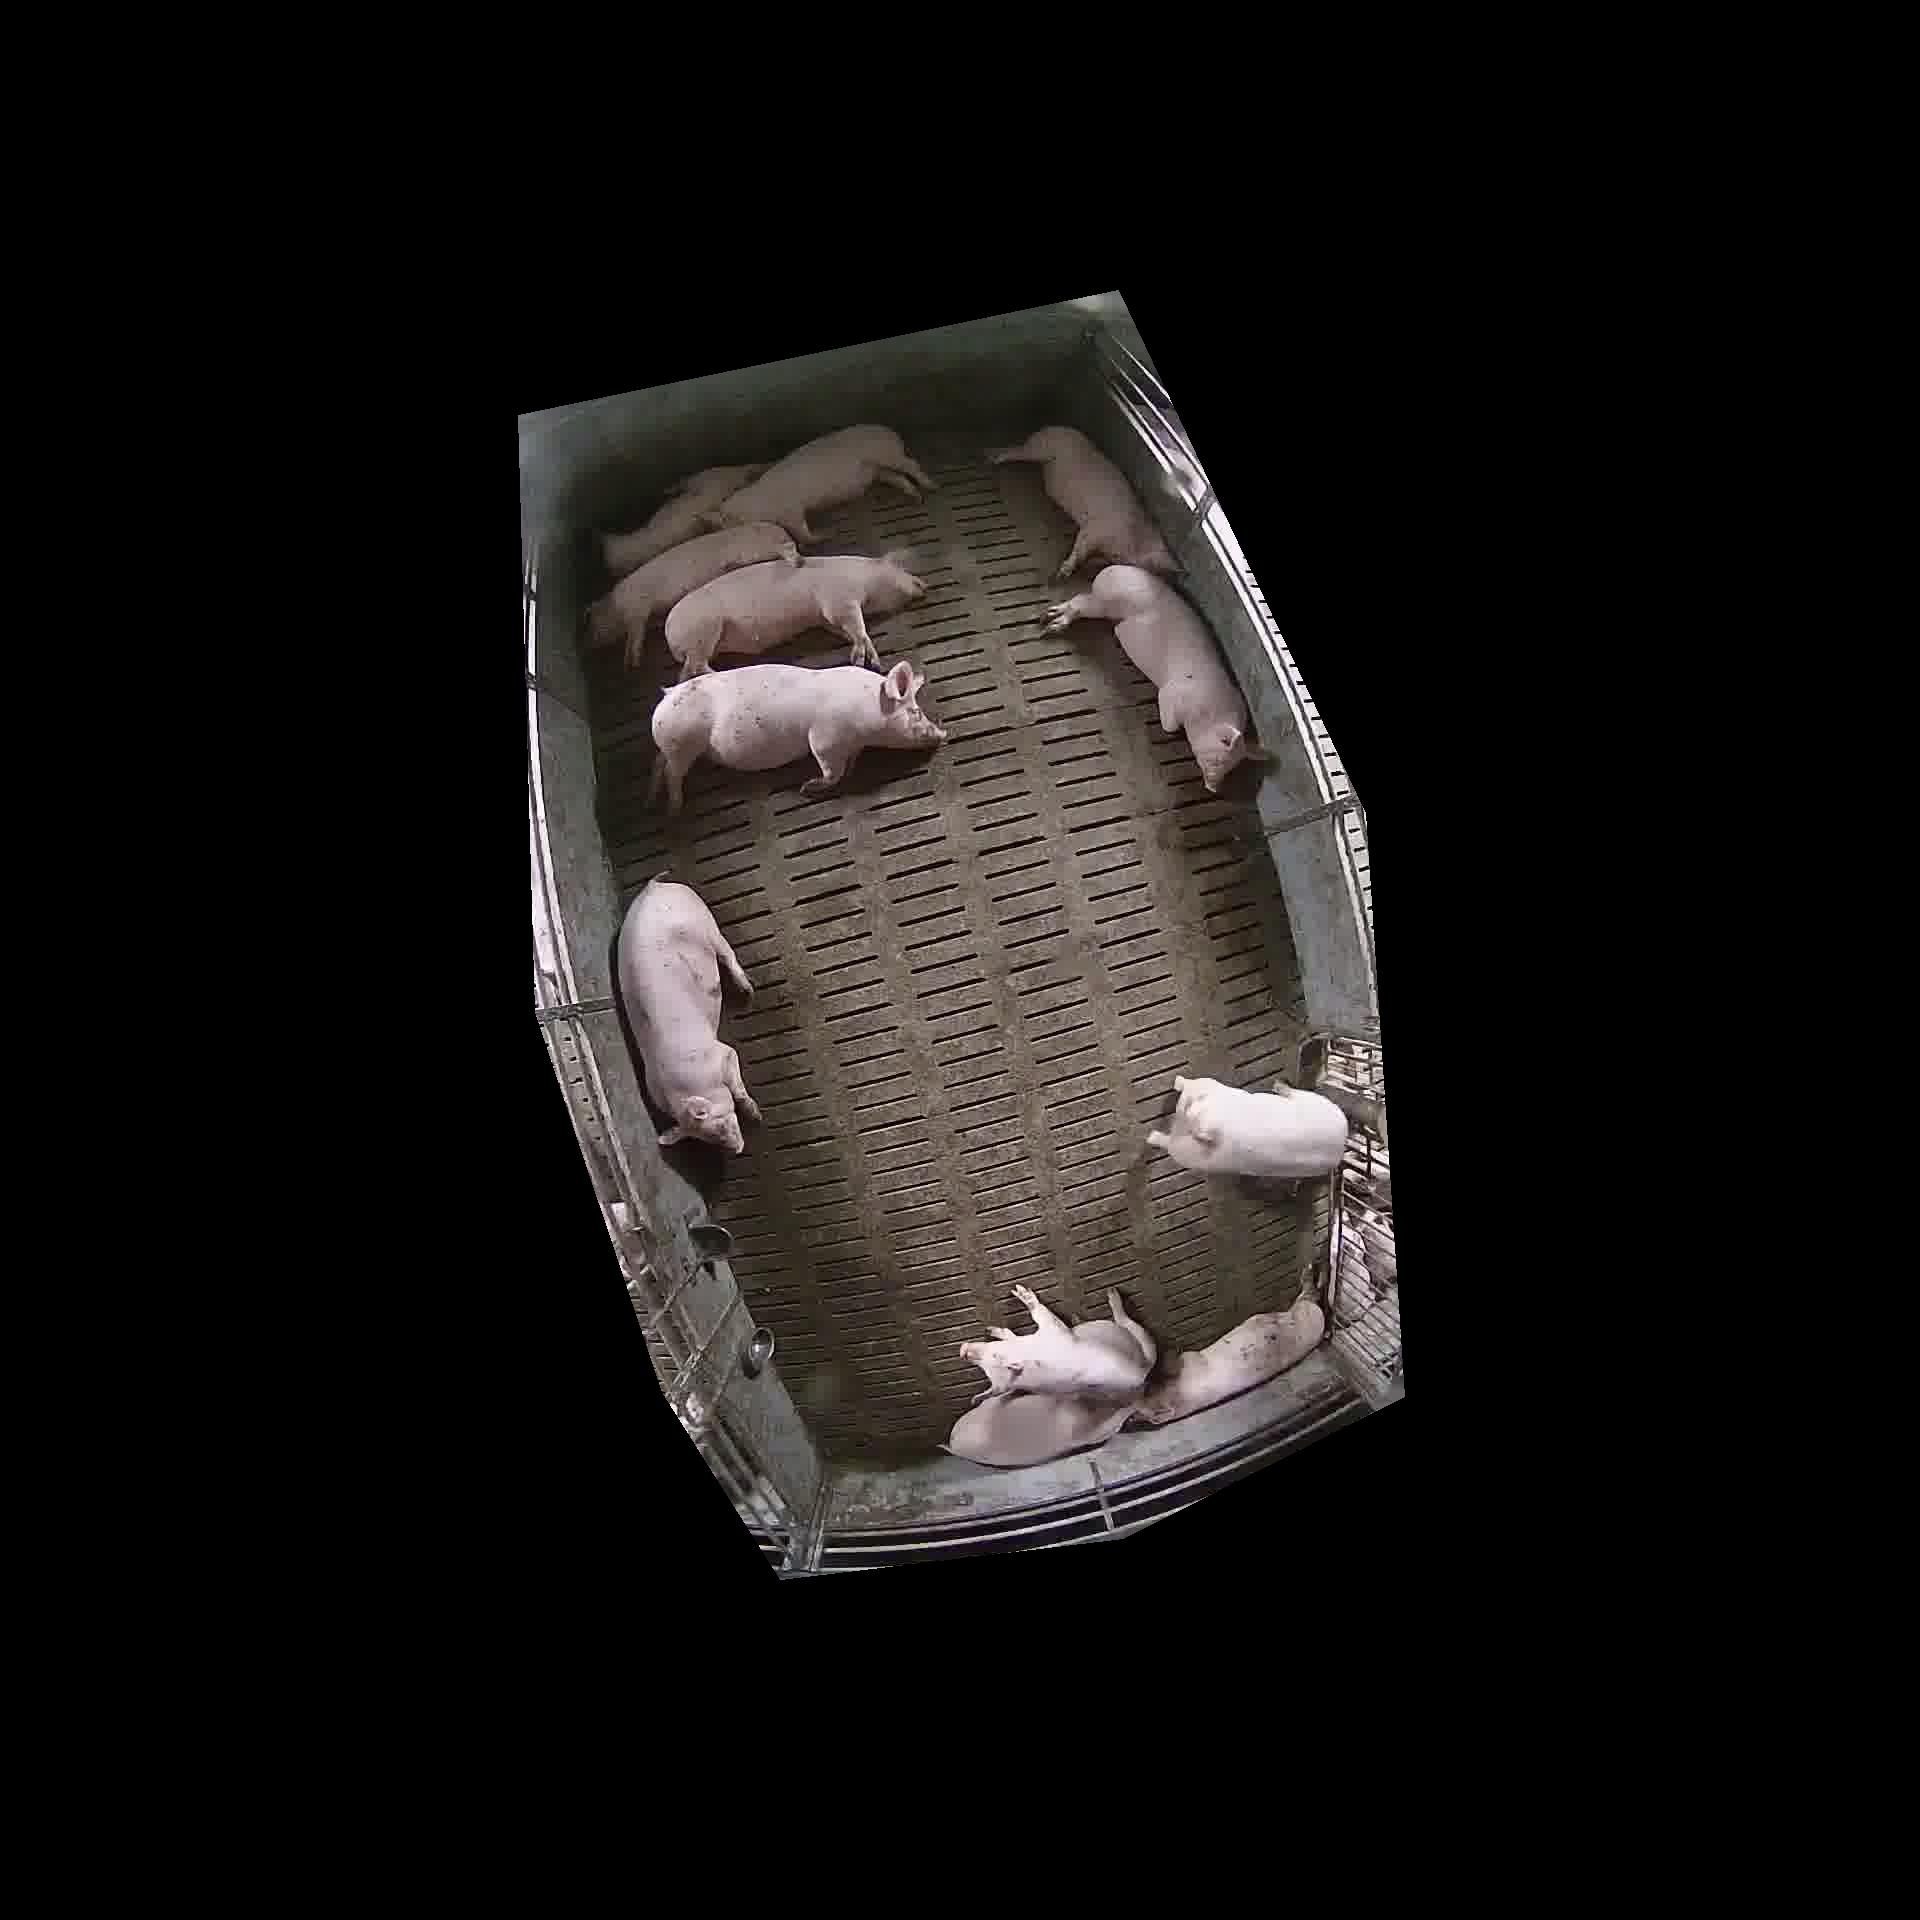pig: (1046, 564, 1255, 788), (652, 661, 944, 811), (617, 879, 760, 1153), (665, 554, 925, 679), (587, 522, 796, 666), (988, 425, 1173, 573), (716, 425, 934, 543), (1134, 1296, 1326, 1424), (960, 1284, 1157, 1405), (1148, 1076, 1347, 1178), (601, 464, 765, 577), (944, 1385, 1139, 1463)
